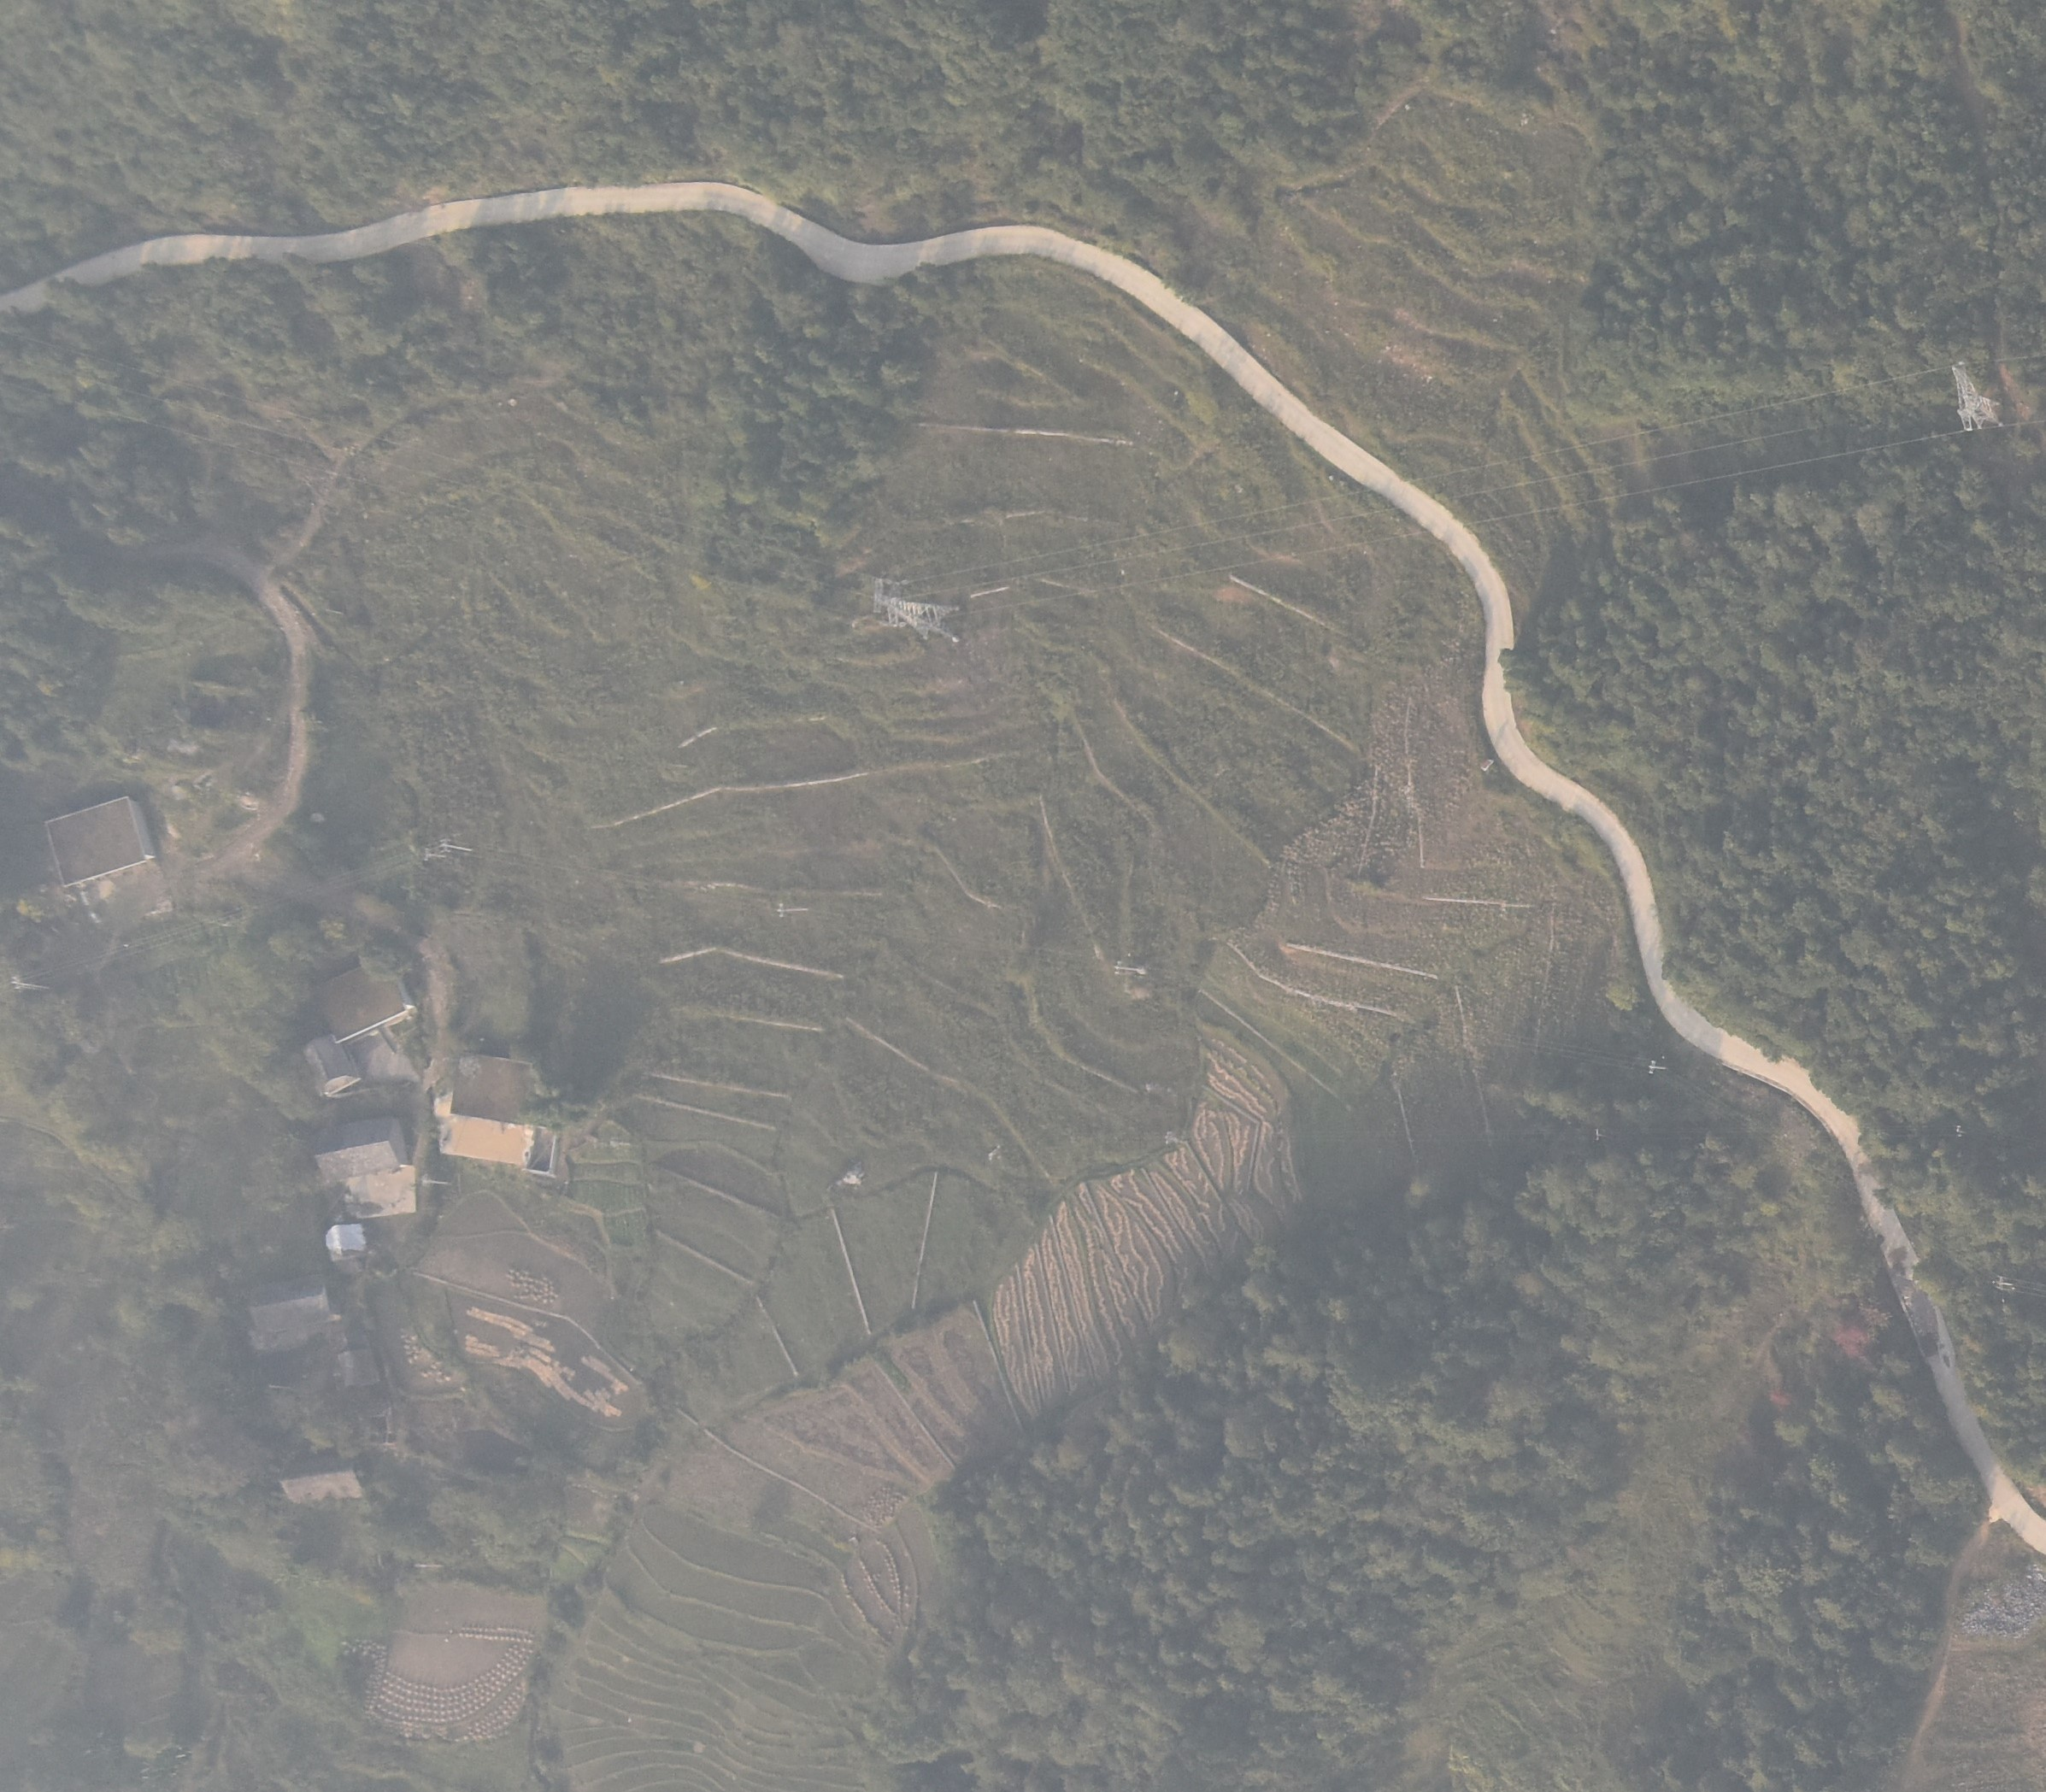building: (40, 792, 157, 889), (311, 964, 421, 1046), (447, 1051, 557, 1133), (311, 1117, 411, 1190), (242, 1268, 341, 1334), (275, 1453, 376, 1514), (296, 1035, 364, 1101)
cable-tower: (852, 562, 964, 658), (1929, 353, 2013, 452), (411, 832, 477, 868), (5, 967, 56, 1000), (767, 893, 816, 926), (1105, 948, 1150, 983), (1641, 1056, 1670, 1080), (1989, 1275, 2022, 1293), (1949, 1119, 1968, 1143), (1587, 1127, 1609, 1147)
